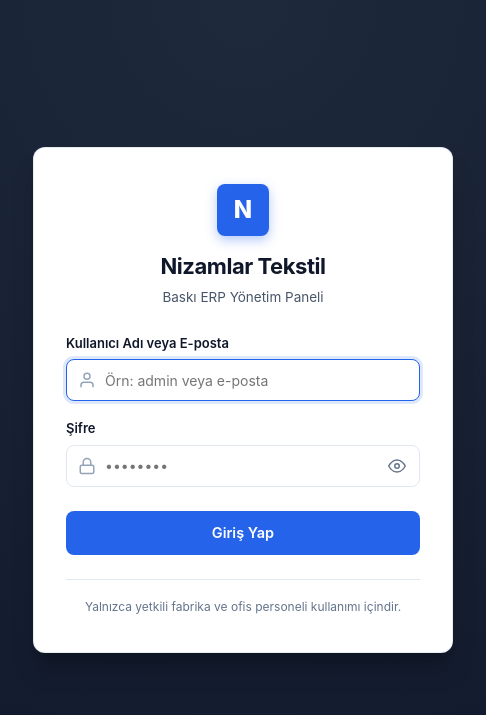
LoginPage › shows friendly Turkish error message on invalid credentials
Type "admin" into the field labelled "Kullanıcı Adı veya E-posta" at (243, 380), box 66,359 -> 420,401
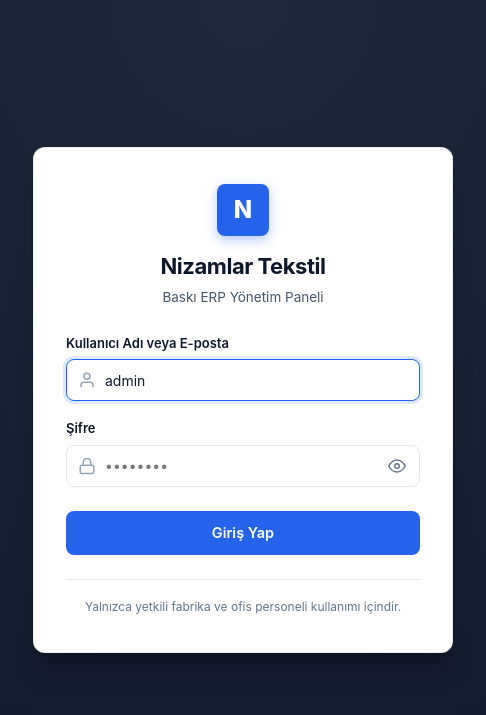
Type "yanlis_sifre" into the password field labelled "Şifre" at (243, 466), box 66,445 -> 420,487
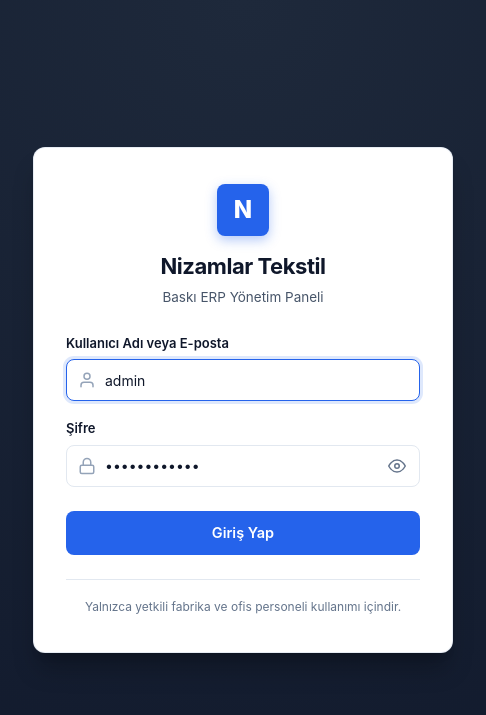
Click the button "Giriş Yap" at (243, 533), box 66,511 -> 420,555
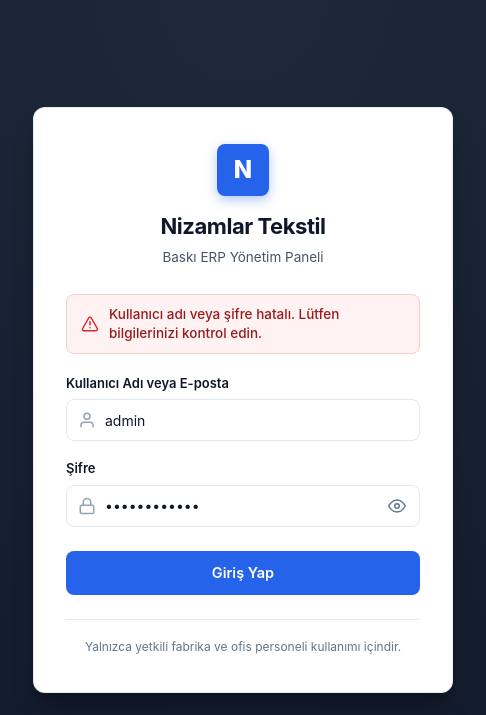
Check: the text "Kullanıcı adı veya şifre hatalı. Lütfen bilgilerinizi kontrol edin." is shown, box 109,306 -> 339,341
